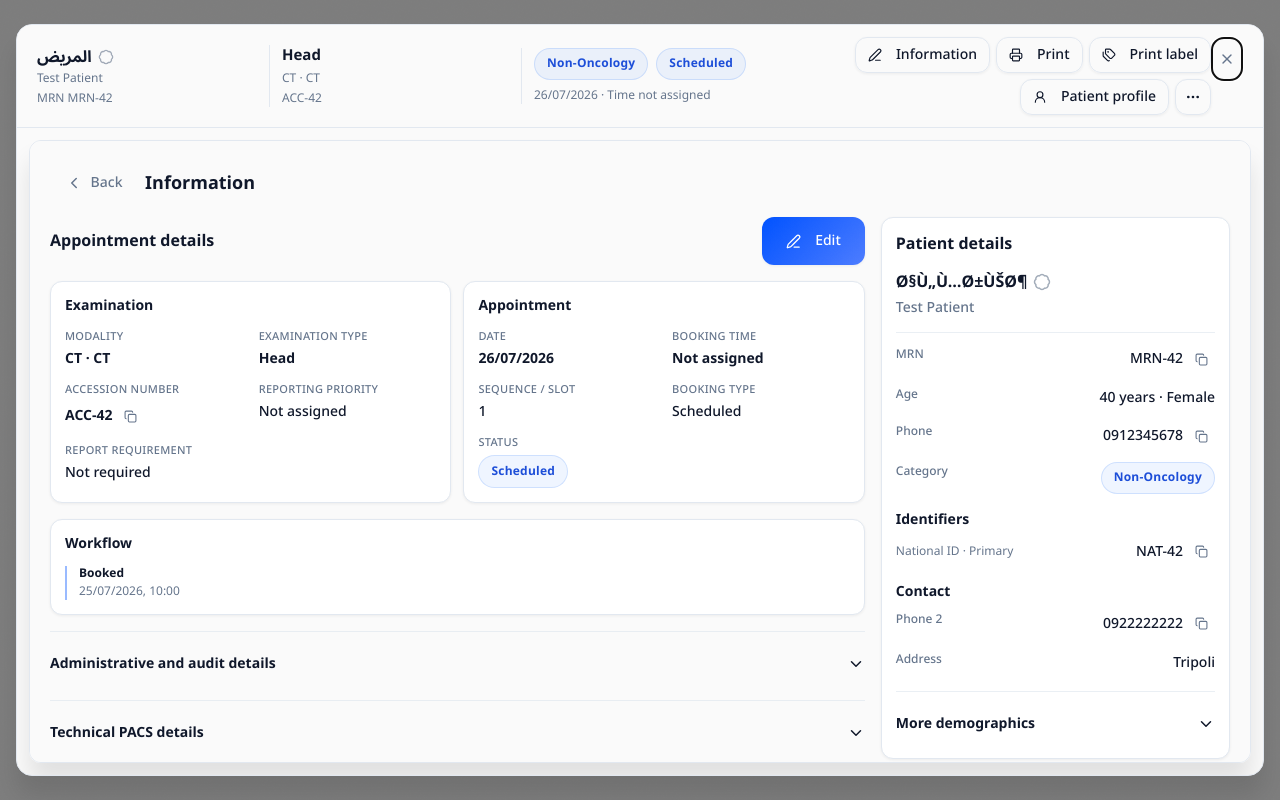
Test: AppointmentManageModal › prioritizes formatted appointment and patient identity information
Check: the text "Scheduled" in the row of "المريض" is shown, box [669,51,733,76]
Check: the text "Not required" is shown, box [65,458,151,487]
Click the button "More demographics" at {"x": 965, "y": 723}, box [896,704,1215,744]
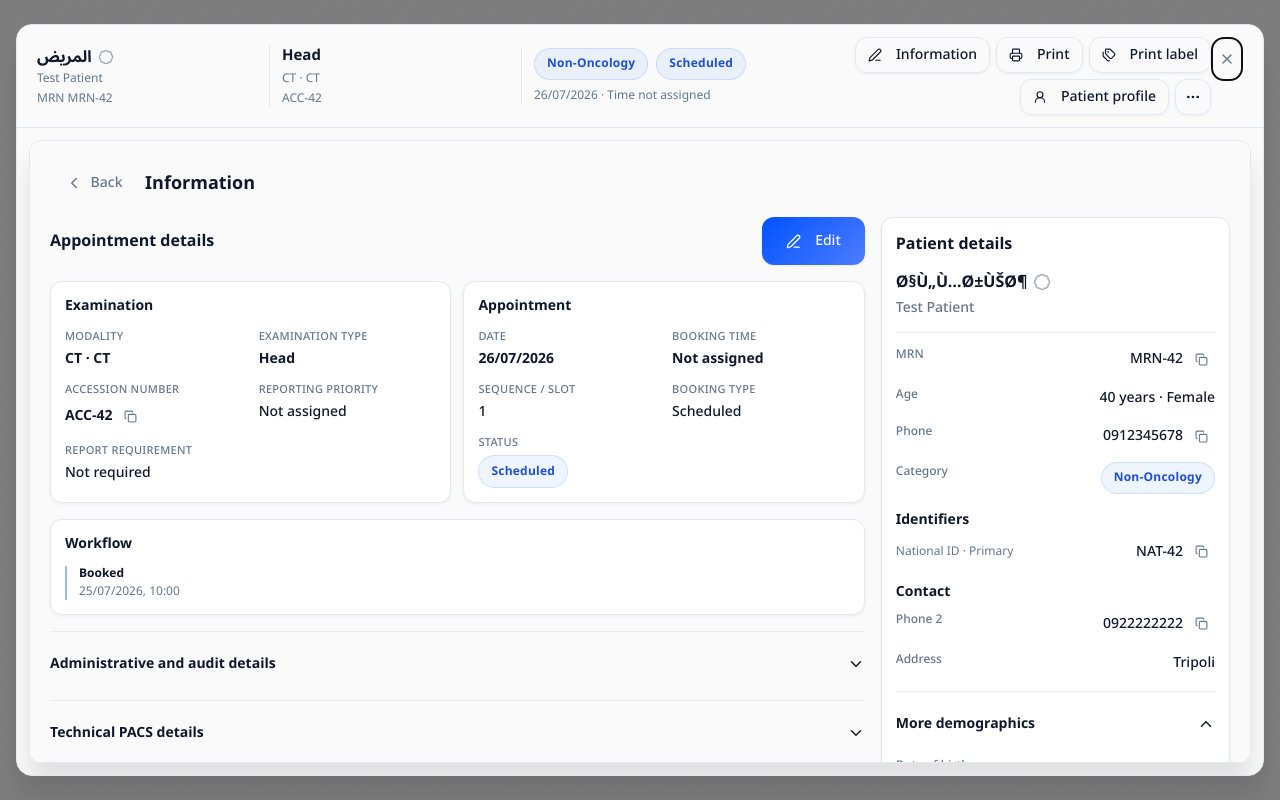
Check: the button "More demographics" is expanded, box [896,704,1215,744]
